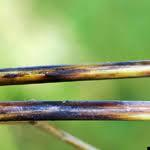Stem Rot: (0, 59, 150, 86), (1, 100, 150, 126), (0, 100, 150, 123), (40, 66, 97, 80), (105, 56, 143, 77), (0, 67, 34, 85)
